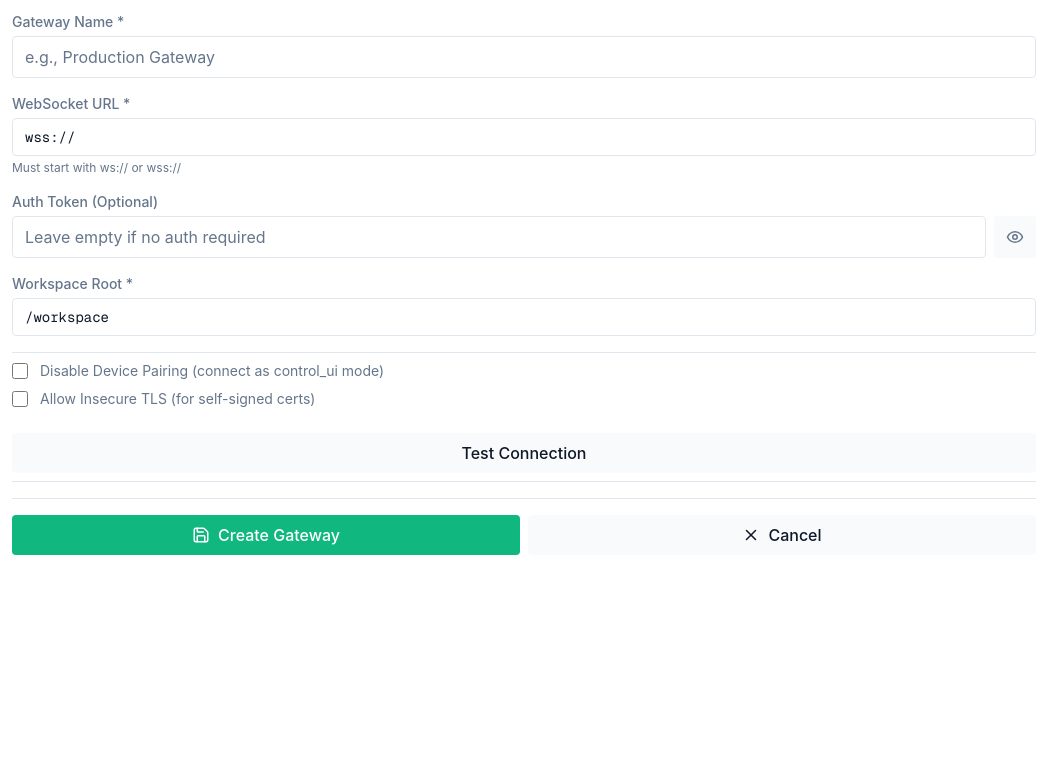
GatewayForm Component › Form Submission › shows loading spinner during submit
Type "Test Gateway" into the field with placeholder "e.g., Production Gateway" at [524, 57], box [12, 36, 1036, 78]
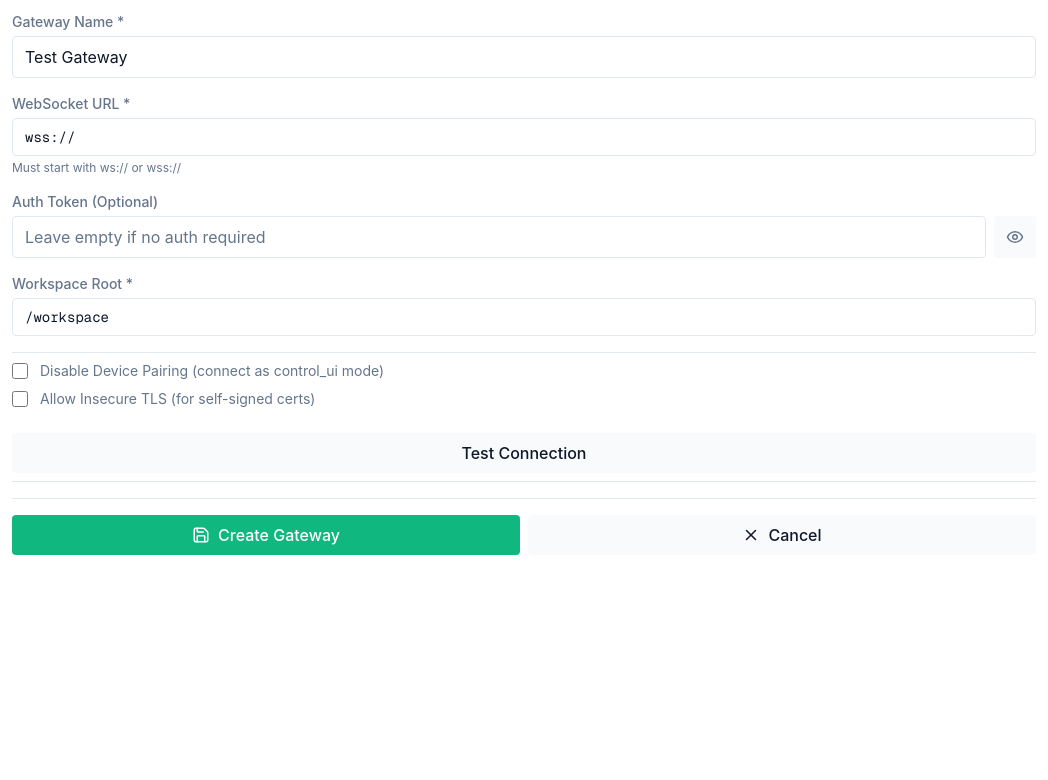
Replace the text in the field with placeholder "wss://gateway.example.com:443" below "WebSocket URL *" with "wss://example.com" at [524, 137], box [12, 118, 1036, 156]
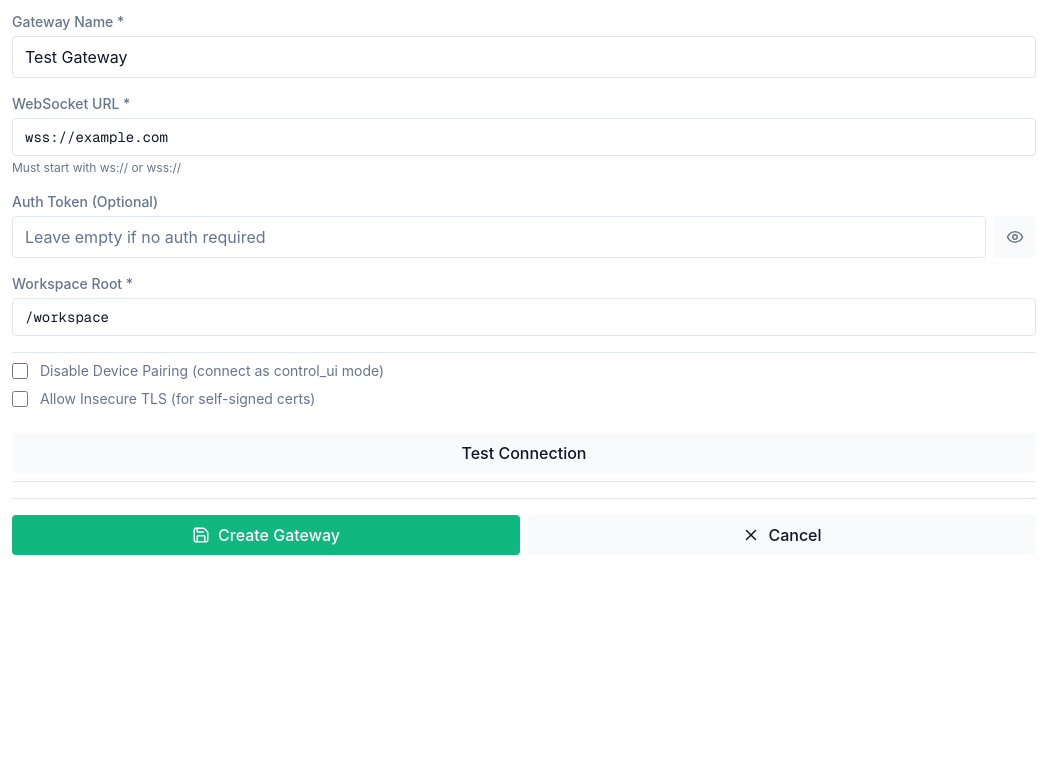
Click the button "Create Gateway" at [266, 535], box [12, 515, 520, 555]
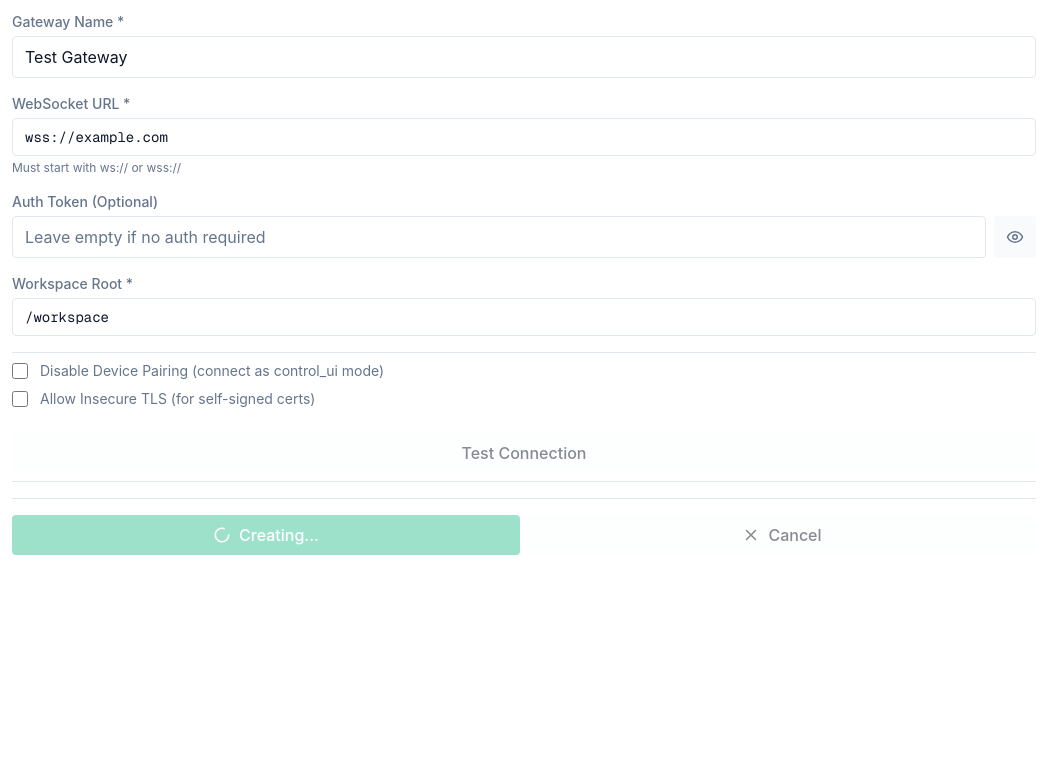
Check: the button named "Create Gateway" is disabled, box [12, 515, 520, 555]
